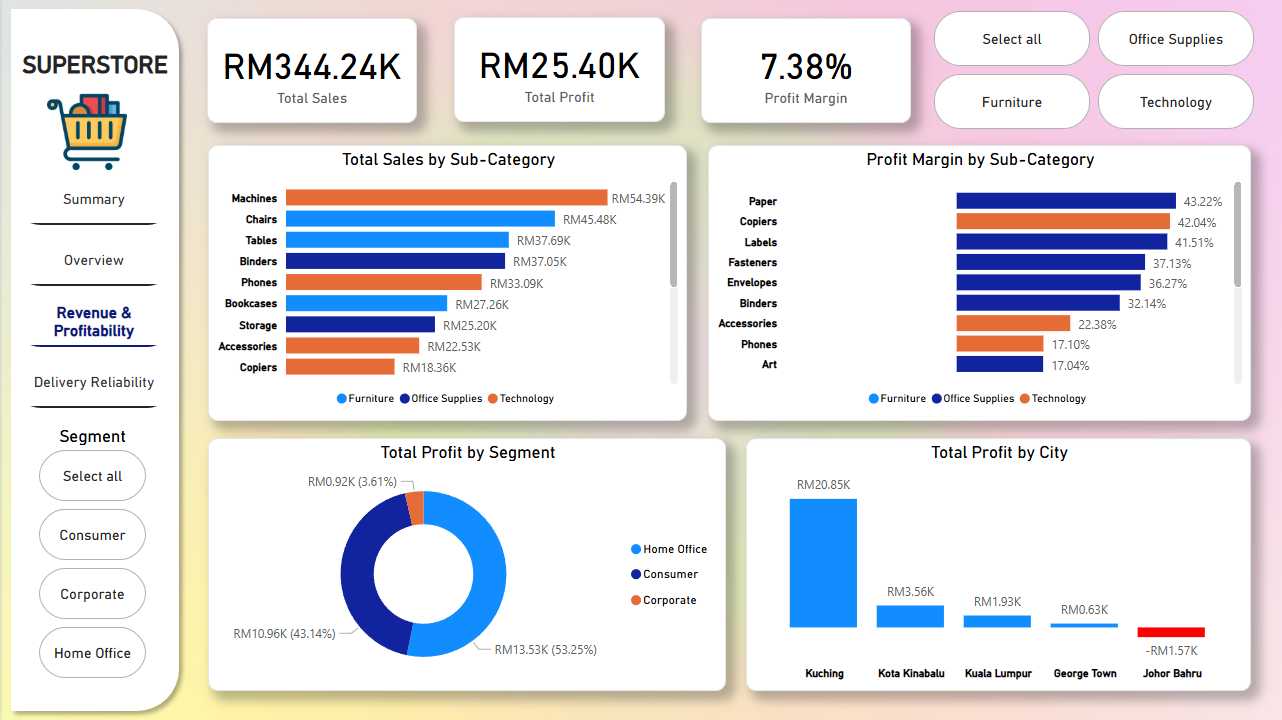

Layout of this report page (visuals, bound fields, positions):
{"tool":"powerbi","page":{"name":"Revenue & Profitability","canvas":[1280,720],"ordinal":2},"visuals":[{"type":"shape","box":[0,0,186.2,720],"z":0},{"type":"textbox","box":[0,28.8,171.2,58.8],"z":1000},{"type":"barChart","title":"Total Sales by Sub-Category","fields":{"Category":["Product.Sub-Category"],"Y":["Sum(Orders.Sales)"]},"box":[205.6,144.5,479.4,276.5],"z":2000},{"type":"donutChart","title":"Total Profit by Segment","fields":{"Category":["Customers.Segment"],"Y":["Sum(Orders.Profit)"]},"box":[205.6,438.1,518,253.2],"z":3000},{"type":"columnChart","title":"Total Profit by City","fields":{"Category":["Location.City"],"Y":["Sum(Orders.Profit)"]},"box":[744.2,438.1,504.5,253.2],"z":4000},{"type":"clusteredBarChart","title":"Profit Margin by Sub-Category","fields":{"Y":["Orders.Profit Margin %"],"Category":["Product.Sub-Category"]},"box":[705.6,144.5,543.1,276.5],"z":5000},{"type":"card","fields":{"Values":["Sum(Orders.Sales)"]},"box":[205.5,18.2,210,104.5],"z":6000},{"type":"card","fields":{"Values":["Sum(Orders.Profit)"]},"box":[452.5,17.1,210.1,105],"z":7000},{"type":"card","fields":{"Values":["Orders.Profit Margin %"]},"box":[699.1,18.2,210,104.5],"z":8000},{"type":"advancedSlicerVisual","fields":{"Values":["Customers.Segment"]},"box":[31.8,426.4,117.3,259.1],"z":9000},{"type":"advancedSlicerVisual","fields":{"Values":["Product.Category"]},"box":[927.3,6.4,330,127.3],"z":10000},{"type":"image","box":[40.4,87.1,89.8,89.8],"z":11000},{"type":"pageNavigator","box":[12.6,174.2,158.9,234.3],"z":12000}]}

Visuals, with their boxes in screenshot pixels (x1, y1, x2, y2), scaled from the page's 1280x720 canvas onto the 1282x720 screenshot:
shape: <bbox>0, 0, 186, 719</bbox>
textbox: <bbox>0, 29, 171, 88</bbox>
"Total Sales by Sub-Category" barChart: <bbox>206, 144, 686, 421</bbox>
"Total Profit by Segment" donutChart: <bbox>206, 438, 725, 691</bbox>
"Total Profit by City" columnChart: <bbox>745, 438, 1251, 691</bbox>
"Profit Margin by Sub-Category" clusteredBarChart: <bbox>707, 144, 1251, 421</bbox>
card - Sum(Orders.Sales): <bbox>206, 18, 416, 123</bbox>
card - Sum(Orders.Profit): <bbox>453, 17, 664, 122</bbox>
card - Orders.Profit Margin %: <bbox>700, 18, 911, 123</bbox>
advancedSlicerVisual - Customers.Segment: <bbox>32, 426, 149, 686</bbox>
advancedSlicerVisual - Product.Category: <bbox>929, 6, 1259, 134</bbox>
image: <bbox>40, 87, 130, 177</bbox>
pageNavigator: <bbox>13, 174, 172, 408</bbox>
